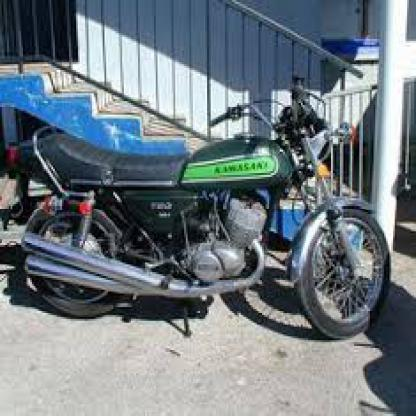Motorcycle: (11, 80, 392, 350)
